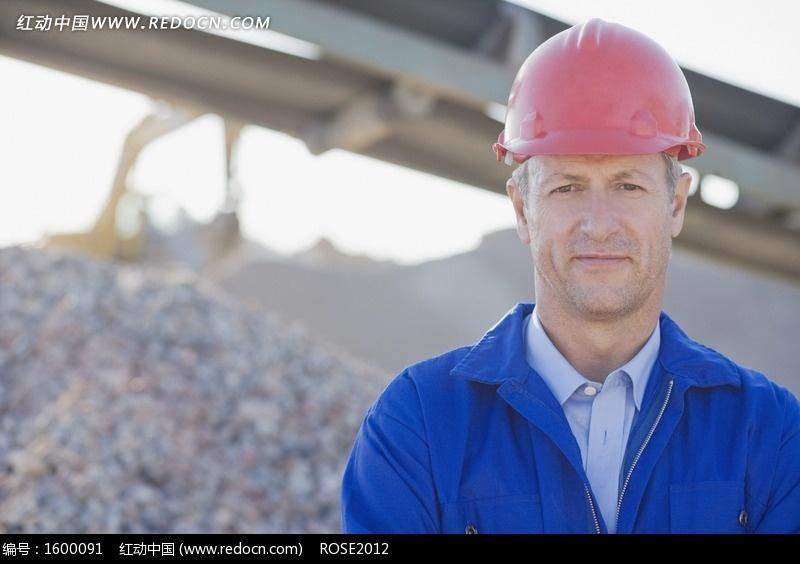Helmet: (502, 20, 702, 318)
